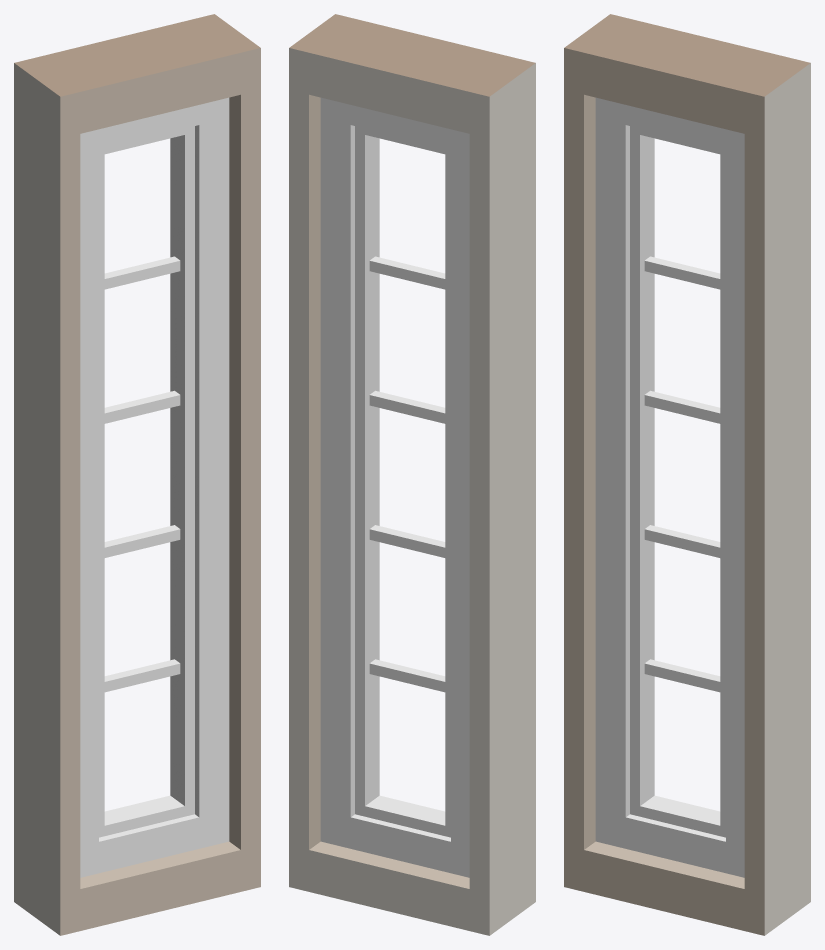
File: Structure_Exterior_Doorway_Sidelight.fbx
3 renders of one model, left to right at view 1: azimuth 30°, elevation 25°; view 2: azimuth 150°, elevation 25°; view 3: azimuth 330°, elevation 25°, orthographic.
Visible parts, largest first — view 1: object1.072; view 2: object1.072; view 3: object1.072.
Part boxes in pixels (bbox=[...]): object1.072: bbox=[14, 14, 260, 935]; object1.072: bbox=[289, 14, 535, 935]; object1.072: bbox=[564, 14, 810, 935].
Size of the model in its own units: 50 by 200 by 20.
